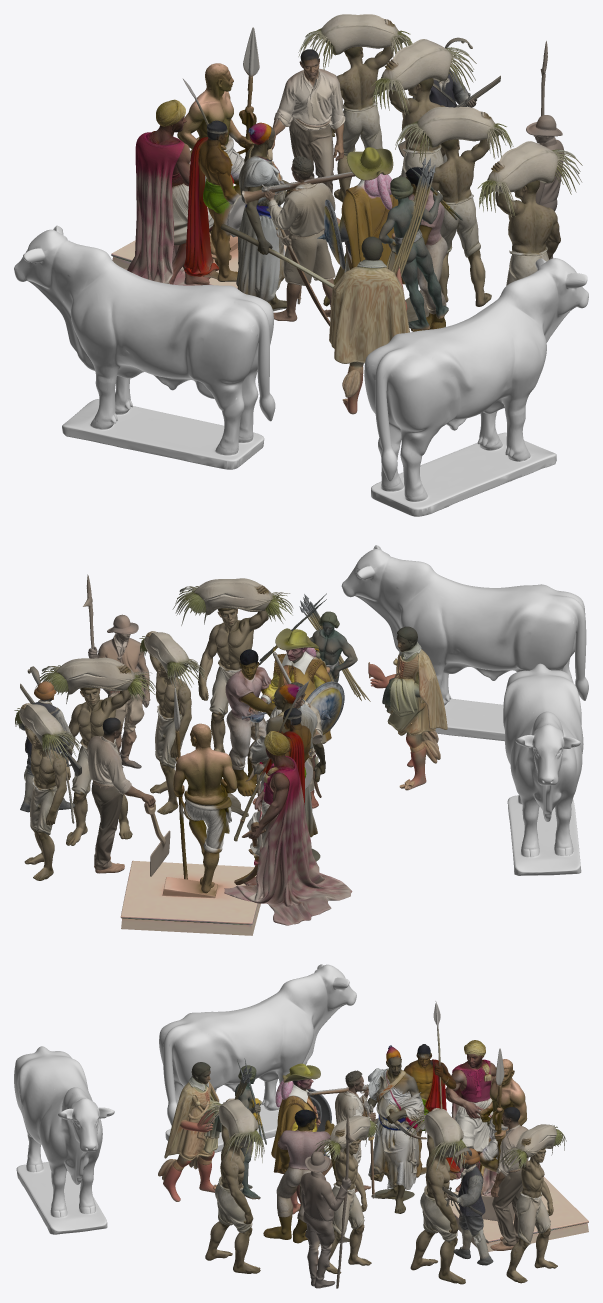
3 renders of one model, top to bottom at view 1: azimuth 30°, elevation 25°; view 2: azimuth 150°, elevation 25°; view 3: azimuth 270°, elevation 25°, orthographic. The views are drawn at different scales.
Bounding box in the file's own units: 10.25 × 4.28 × 11.72.
